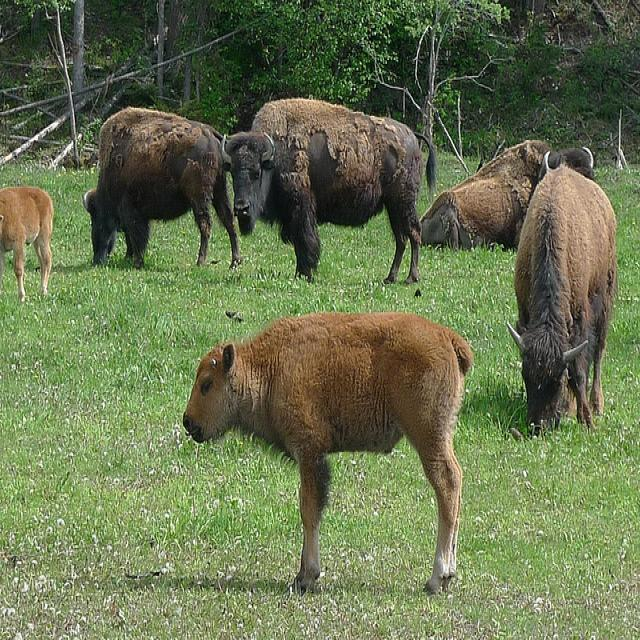cow: (184, 308, 473, 589), (220, 97, 424, 283), (507, 162, 617, 434), (79, 108, 238, 265), (417, 133, 590, 240), (0, 186, 54, 306)
